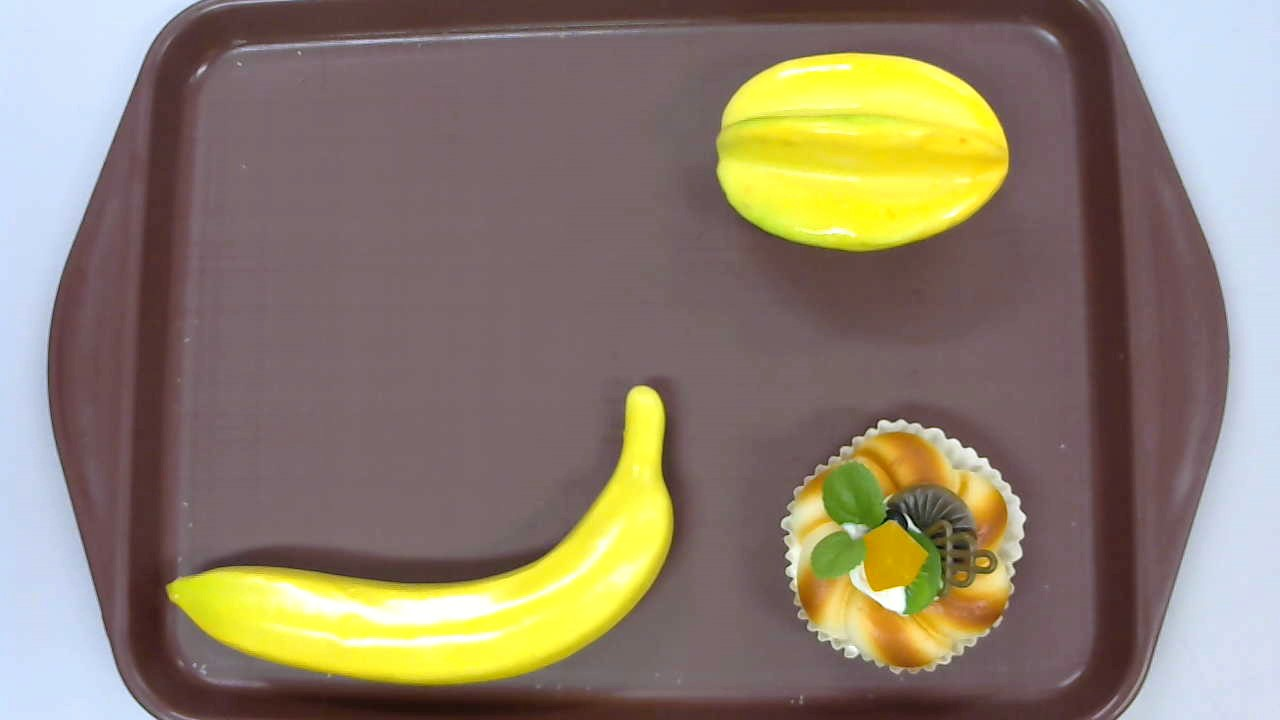banana: (166, 386, 675, 687)
fruit tart: (781, 417, 1026, 674)
star fruit: (716, 52, 1008, 252)
